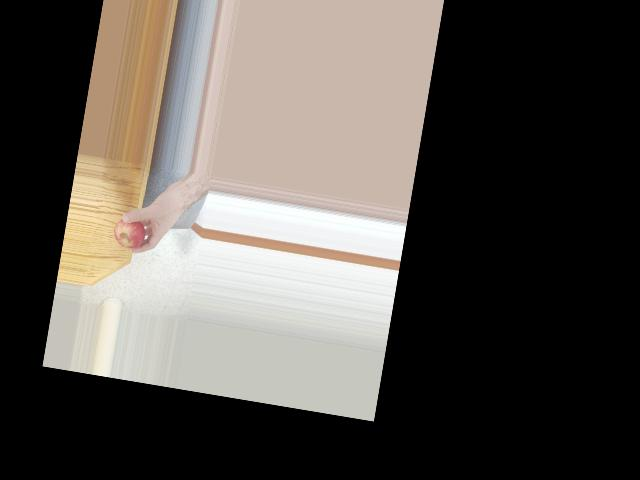apple: (110, 212, 148, 251)
